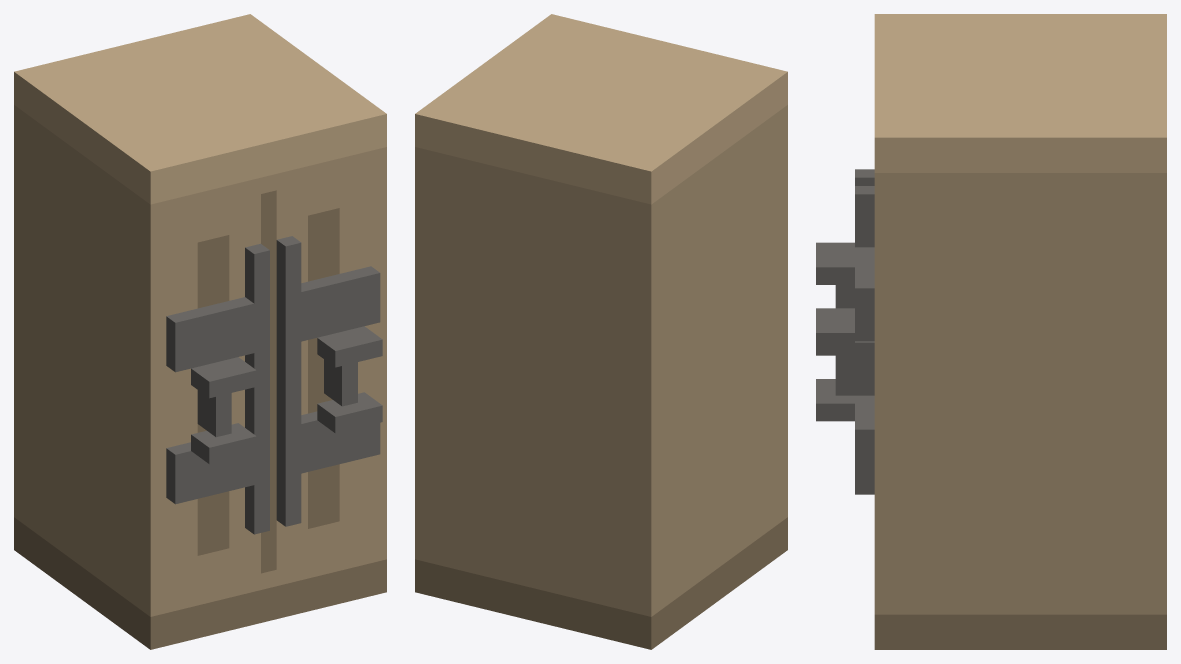
Rendered from joyero_pequeno_avellano_01.glb.
3 renders of one model, left to right at view 1: azimuth 30°, elevation 25°; view 2: azimuth 150°, elevation 25°; view 3: azimuth 270°, elevation 25°, orthographic. The views are drawn at different scales.
Parts seen in each view (by area): view 1: joyero_pequeno_avellano; view 2: joyero_pequeno_avellano; view 3: joyero_pequeno_avellano.
Boxes of the visible parts, x1,y1,x2,y2 form: joyero_pequeno_avellano: (14,14,386,649); joyero_pequeno_avellano: (415,14,787,649); joyero_pequeno_avellano: (816,14,1166,649).
Bounding box in the file's own units: 1 × 1.93 × 1.2.
